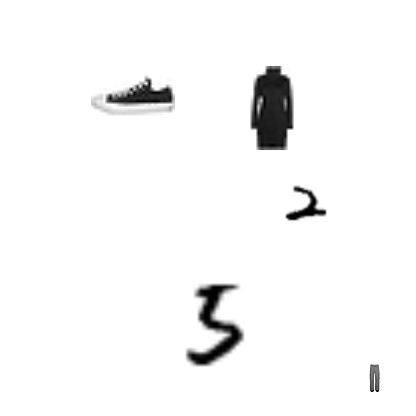2: (306, 104, 334, 132), (144, 242, 172, 270)
9: (42, 308, 126, 392), (147, 298, 231, 382), (218, 217, 260, 259)
Dress: (59, 59, 143, 143), (232, 117, 274, 159), (341, 139, 369, 167)
Shirt: (284, 277, 340, 333)
